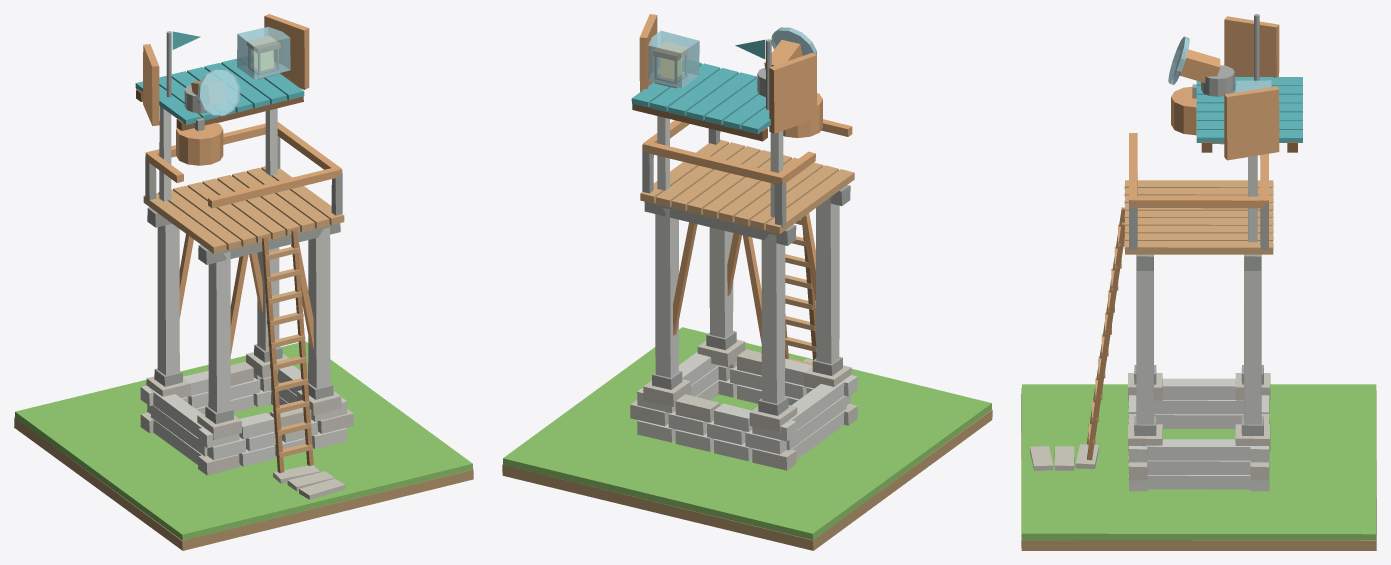
File: tower_l04_active_LOD2.glb
3 renders of one model, left to right at view 1: azimuth 30°, elevation 25°; view 2: azimuth 150°, elevation 25°; view 3: azimuth 270°, elevation 25°, orthographic. The views are drawn at different scales.
Visible parts, largest first — view 1: tower_l04_grass_tile_tower_l04_active_LOD2_tmp, tower_l04_earth_tile_tower_l04_active_LOD2_tmp, post_-0.61_-0.54_tower_l04_active_LOD2_tmp, post_-0.61_0.54_tower_l04_active_LOD2_tmp, post_0.61_-0.54_tower_l04_active_LOD2_tmp, signal_lantern_guard_tower_l04_active_LOD2_tmp, reflector_1_tower_l04_active_LOD2_tmp, bell_tower_l04_active_LOD2_tmp, telescope_lens_tower_l04_active_LOD2_tmp, balcony_rail_-0.66_tower_l04_active_LOD2_tmp, ladder_rail_-0.18_tower_l04_active_LOD2_tmp, deck_board_0_tower_l04_active_LOD2_tmp (+32 smaller); view 2: tower_l04_grass_tile_tower_l04_active_LOD2_tmp, tower_l04_earth_tile_tower_l04_active_LOD2_tmp, post_-0.61_0.54_tower_l04_active_LOD2_tmp, post_-0.61_-0.54_tower_l04_active_LOD2_tmp, post_0.61_0.54_tower_l04_active_LOD2_tmp, reflector_-1_tower_l04_active_LOD2_tmp, signal_lantern_guard_tower_l04_active_LOD2_tmp, post_0.61_-0.54_tower_l04_active_LOD2_tmp, balcony_rail_0.66_tower_l04_active_LOD2_tmp, deck_bearer_0.54_tower_l04_active_LOD2_tmp, deck_board_0_tower_l04_active_LOD2_tmp, stone_return_2_-0.72_tower_l04_active_LOD2_tmp (+40 smaller); view 3: tower_l04_grass_tile_tower_l04_active_LOD2_tmp, tower_l04_earth_tile_tower_l04_active_LOD2_tmp, reflector_1_tower_l04_active_LOD2_tmp, reflector_-1_tower_l04_active_LOD2_tmp, post_0.61_0.54_tower_l04_active_LOD2_tmp, post_0.61_-0.54_tower_l04_active_LOD2_tmp, stone_return_2_0.72_tower_l04_active_LOD2_tmp, deck_board_8_tower_l04_active_LOD2_tmp, stone_return_2_-0.72_tower_l04_active_LOD2_tmp, balcony_side_rail_tower_l04_active_LOD2_tmp, stone_return_0_0.72_tower_l04_active_LOD2_tmp, stone_return_1_0.72_tower_l04_active_LOD2_tmp (+27 smaller).
Boxes of the visible parts, x1,y1,x2,y2 form: tower_l04_grass_tile_tower_l04_active_LOD2_tmp: [14, 341, 473, 540]; tower_l04_earth_tile_tower_l04_active_LOD2_tmp: [14, 418, 473, 550]; post_-0.61_-0.54_tower_l04_active_LOD2_tmp: [208, 251, 230, 412]; post_-0.61_0.54_tower_l04_active_LOD2_tmp: [157, 223, 179, 375]; post_0.61_-0.54_tower_l04_active_LOD2_tmp: [308, 227, 330, 388]; signal_lantern_guard_tower_l04_active_LOD2_tmp: [237, 27, 290, 79]; reflector_1_tower_l04_active_LOD2_tmp: [264, 14, 309, 89]; bell_tower_l04_active_LOD2_tmp: [176, 123, 223, 165]; telescope_lens_tower_l04_active_LOD2_tmp: [197, 69, 240, 115]; balcony_rail_-0.66_tower_l04_active_LOD2_tmp: [208, 168, 342, 208]; ladder_rail_-0.18_tower_l04_active_LOD2_tmp: [262, 237, 284, 473]; deck_board_0_tower_l04_active_LOD2_tmp: [143, 193, 226, 253]; tower_l04_grass_tile_tower_l04_active_LOD2_tmp: [503, 327, 991, 540]; tower_l04_earth_tile_tower_l04_active_LOD2_tmp: [502, 409, 992, 550]; post_-0.61_0.54_tower_l04_active_LOD2_tmp: [761, 234, 785, 403]; post_-0.61_-0.54_tower_l04_active_LOD2_tmp: [816, 197, 839, 363]; post_0.61_0.54_tower_l04_active_LOD2_tmp: [655, 208, 678, 377]; reflector_-1_tower_l04_active_LOD2_tmp: [769, 52, 816, 133]; signal_lantern_guard_tower_l04_active_LOD2_tmp: [648, 30, 699, 88]; post_0.61_-0.54_tower_l04_active_LOD2_tmp: [709, 227, 733, 337]; balcony_rail_0.66_tower_l04_active_LOD2_tmp: [642, 141, 782, 184]; deck_bearer_0.54_tower_l04_active_LOD2_tmp: [644, 201, 796, 245]; deck_board_0_tower_l04_active_LOD2_tmp: [766, 169, 854, 234]; stone_return_2_-0.72_tower_l04_active_LOD2_tmp: [787, 381, 844, 430]; tower_l04_grass_tile_tower_l04_active_LOD2_tmp: [1021, 384, 1376, 540]; tower_l04_earth_tile_tower_l04_active_LOD2_tmp: [1021, 390, 1376, 550]; reflector_1_tower_l04_active_LOD2_tmp: [1224, 86, 1279, 160]; reflector_-1_tower_l04_active_LOD2_tmp: [1224, 16, 1279, 77]; post_0.61_0.54_tower_l04_active_LOD2_tmp: [1244, 255, 1261, 424]; post_0.61_-0.54_tower_l04_active_LOD2_tmp: [1136, 255, 1153, 424]; stone_return_2_0.72_tower_l04_active_LOD2_tmp: [1142, 439, 1250, 460]; deck_board_8_tower_l04_active_LOD2_tmp: [1124, 241, 1273, 254]; stone_return_2_-0.72_tower_l04_active_LOD2_tmp: [1162, 378, 1235, 399]; balcony_side_rail_tower_l04_active_LOD2_tmp: [1131, 196, 1266, 208]; stone_return_0_0.72_tower_l04_active_LOD2_tmp: [1147, 475, 1250, 489]; stone_return_1_0.72_tower_l04_active_LOD2_tmp: [1147, 460, 1250, 474].
Size of the model in its own units: 3.57 by 4.83 by 3.57.
